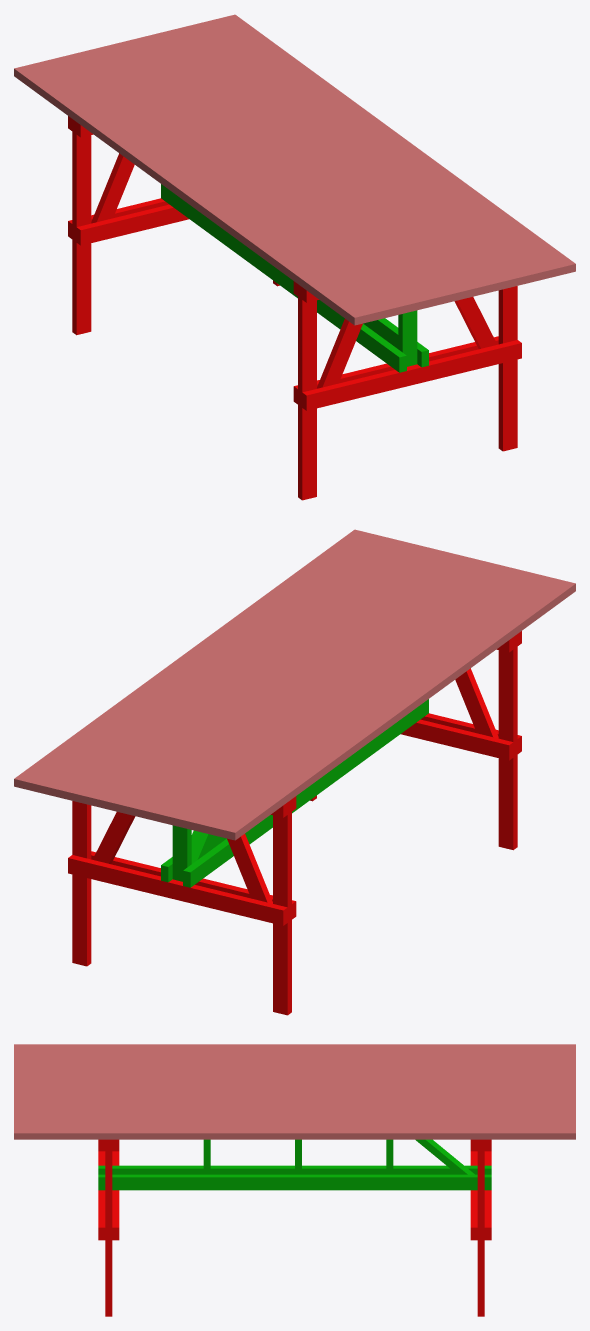
The model's file is result.glb.
The picture shows the model from 3 angles, top to bottom: view 1: azimuth 30°, elevation 25°; view 2: azimuth 150°, elevation 25°; view 3: azimuth 270°, elevation 25°; orthographic projection. The views are drawn at different scales.
Parts seen in each view (by area): view 1: 4803c3d7-4ed8-4f5a-b35e-b5cdfd22047d__Box, 19721a4d-78a7-42d0-9d67-412e2d08731a__undefined, dbe5ea6c-068b-48f6-9b0c-8caf2e13dbd1__undefined, ff7b646f-639b-42da-a52a-8f971eae3e62__undefined, 46a6a74a-2e28-433e-88b4-9c2c21c44258__undefined, e378a500-bcab-4098-a47e-6ab2298dc2fa__undefined, 0f054c12-aa4c-4d43-ab82-79dcc4807861__undefined, 114c8e3f-3005-4139-860e-ee9274b37e44__undefined, d433b0f9-72f2-478e-9013-b9c53bfd6dc5__undefined, 0f76999d-264f-4b74-b304-6f95eb03ee88__undefined, 88bb5e75-a4e3-4b39-9fe1-7d80f0908902__undefined, 05d28cb5-4032-43b9-9da8-e67fd29a97ce__undefined (+15 smaller); view 2: 4803c3d7-4ed8-4f5a-b35e-b5cdfd22047d__Box, 19721a4d-78a7-42d0-9d67-412e2d08731a__undefined, dbe5ea6c-068b-48f6-9b0c-8caf2e13dbd1__undefined, ff7b646f-639b-42da-a52a-8f971eae3e62__undefined, 46a6a74a-2e28-433e-88b4-9c2c21c44258__undefined, e378a500-bcab-4098-a47e-6ab2298dc2fa__undefined, 0f054c12-aa4c-4d43-ab82-79dcc4807861__undefined, 114c8e3f-3005-4139-860e-ee9274b37e44__undefined, d433b0f9-72f2-478e-9013-b9c53bfd6dc5__undefined, 0f76999d-264f-4b74-b304-6f95eb03ee88__undefined, 88bb5e75-a4e3-4b39-9fe1-7d80f0908902__undefined, 05d28cb5-4032-43b9-9da8-e67fd29a97ce__undefined (+14 smaller); view 3: 2b586e78-87f2-437e-ad27-ad071751c62c__undefined, 59e61e8d-f9f9-404b-b86e-497662e8d345__strutH, 4803c3d7-4ed8-4f5a-b35e-b5cdfd22047d__Box, 88bb5e75-a4e3-4b39-9fe1-7d80f0908902__undefined, ff7b646f-639b-42da-a52a-8f971eae3e62__undefined, 0f054c12-aa4c-4d43-ab82-79dcc4807861__undefined, 3d0f8aec-e0fd-4c62-9160-dc742d50aea0__undefined, 05d28cb5-4032-43b9-9da8-e67fd29a97ce__undefined, 114c8e3f-3005-4139-860e-ee9274b37e44__undefined, 46a6a74a-2e28-433e-88b4-9c2c21c44258__undefined, 04a63843-55ea-42ab-96a7-620e7118123f__strutH, dbe5ea6c-068b-48f6-9b0c-8caf2e13dbd1__undefined (+12 smaller).
Part boxes in pixels (x1,y1,x2,y2): 4803c3d7-4ed8-4f5a-b35e-b5cdfd22047d__Box: (14, 65, 369, 325); 19721a4d-78a7-42d0-9d67-412e2d08731a__undefined: (73, 50, 428, 310); dbe5ea6c-068b-48f6-9b0c-8caf2e13dbd1__undefined: (29, 61, 384, 321); ff7b646f-639b-42da-a52a-8f971eae3e62__undefined: (132, 36, 487, 296); 46a6a74a-2e28-433e-88b4-9c2c21c44258__undefined: (206, 18, 561, 278); e378a500-bcab-4098-a47e-6ab2298dc2fa__undefined: (88, 47, 443, 307); 0f054c12-aa4c-4d43-ab82-79dcc4807861__undefined: (147, 32, 502, 292); 114c8e3f-3005-4139-860e-ee9274b37e44__undefined: (191, 21, 546, 282); d433b0f9-72f2-478e-9013-b9c53bfd6dc5__undefined: (58, 54, 413, 314); 0f76999d-264f-4b74-b304-6f95eb03ee88__undefined: (103, 43, 457, 303); 88bb5e75-a4e3-4b39-9fe1-7d80f0908902__undefined: (117, 39, 472, 300); 05d28cb5-4032-43b9-9da8-e67fd29a97ce__undefined: (177, 25, 531, 285); 4803c3d7-4ed8-4f5a-b35e-b5cdfd22047d__Box: (220, 580, 575, 840); 19721a4d-78a7-42d0-9d67-412e2d08731a__undefined: (161, 565, 516, 825); dbe5ea6c-068b-48f6-9b0c-8caf2e13dbd1__undefined: (205, 576, 560, 836); ff7b646f-639b-42da-a52a-8f971eae3e62__undefined: (102, 551, 457, 811); 46a6a74a-2e28-433e-88b4-9c2c21c44258__undefined: (28, 533, 383, 793); e378a500-bcab-4098-a47e-6ab2298dc2fa__undefined: (146, 562, 501, 822); 0f054c12-aa4c-4d43-ab82-79dcc4807861__undefined: (87, 547, 442, 807); 114c8e3f-3005-4139-860e-ee9274b37e44__undefined: (43, 536, 398, 797); d433b0f9-72f2-478e-9013-b9c53bfd6dc5__undefined: (176, 569, 531, 829); 0f76999d-264f-4b74-b304-6f95eb03ee88__undefined: (132, 558, 486, 818); 88bb5e75-a4e3-4b39-9fe1-7d80f0908902__undefined: (117, 554, 472, 815); 05d28cb5-4032-43b9-9da8-e67fd29a97ce__undefined: (58, 540, 412, 800); 2b586e78-87f2-437e-ad27-ad071751c62c__undefined: (14, 1127, 575, 1139); 59e61e8d-f9f9-404b-b86e-497662e8d345__strutH: (98, 1174, 491, 1190); 4803c3d7-4ed8-4f5a-b35e-b5cdfd22047d__Box: (14, 1044, 575, 1050); 88bb5e75-a4e3-4b39-9fe1-7d80f0908902__undefined: (14, 1085, 575, 1091); ff7b646f-639b-42da-a52a-8f971eae3e62__undefined: (14, 1091, 575, 1097); 0f054c12-aa4c-4d43-ab82-79dcc4807861__undefined: (14, 1097, 575, 1103); 3d0f8aec-e0fd-4c62-9160-dc742d50aea0__undefined: (14, 1103, 575, 1109); 05d28cb5-4032-43b9-9da8-e67fd29a97ce__undefined: (14, 1109, 575, 1115); 114c8e3f-3005-4139-860e-ee9274b37e44__undefined: (14, 1115, 575, 1121); 46a6a74a-2e28-433e-88b4-9c2c21c44258__undefined: (14, 1121, 575, 1127); 04a63843-55ea-42ab-96a7-620e7118123f__strutH: (98, 1165, 491, 1174); dbe5ea6c-068b-48f6-9b0c-8caf2e13dbd1__undefined: (14, 1050, 575, 1055).
Bounding box in the file's own units: 750 × 725 × 2000.
